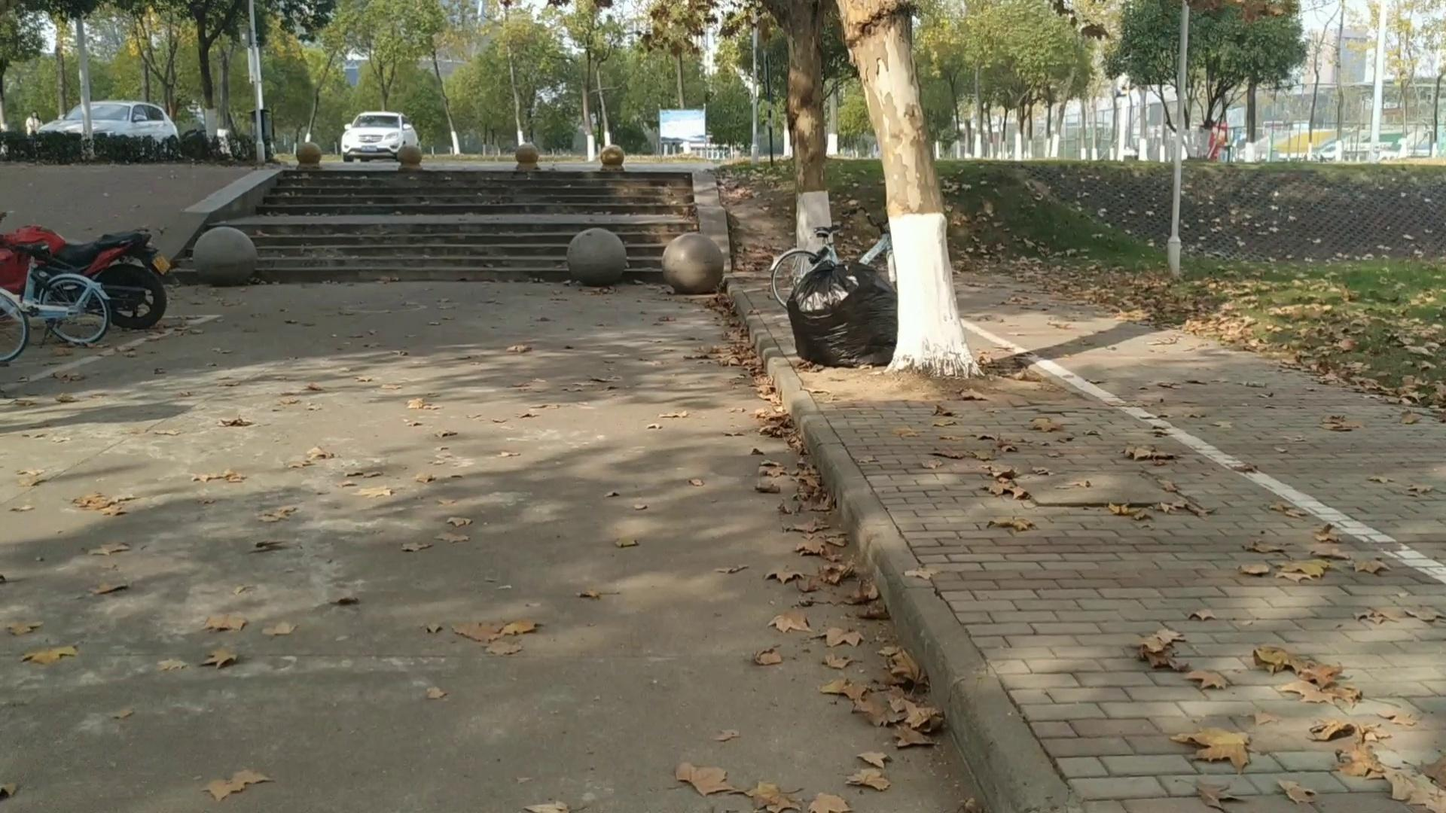car: (23, 100, 184, 144), (339, 110, 422, 163)
